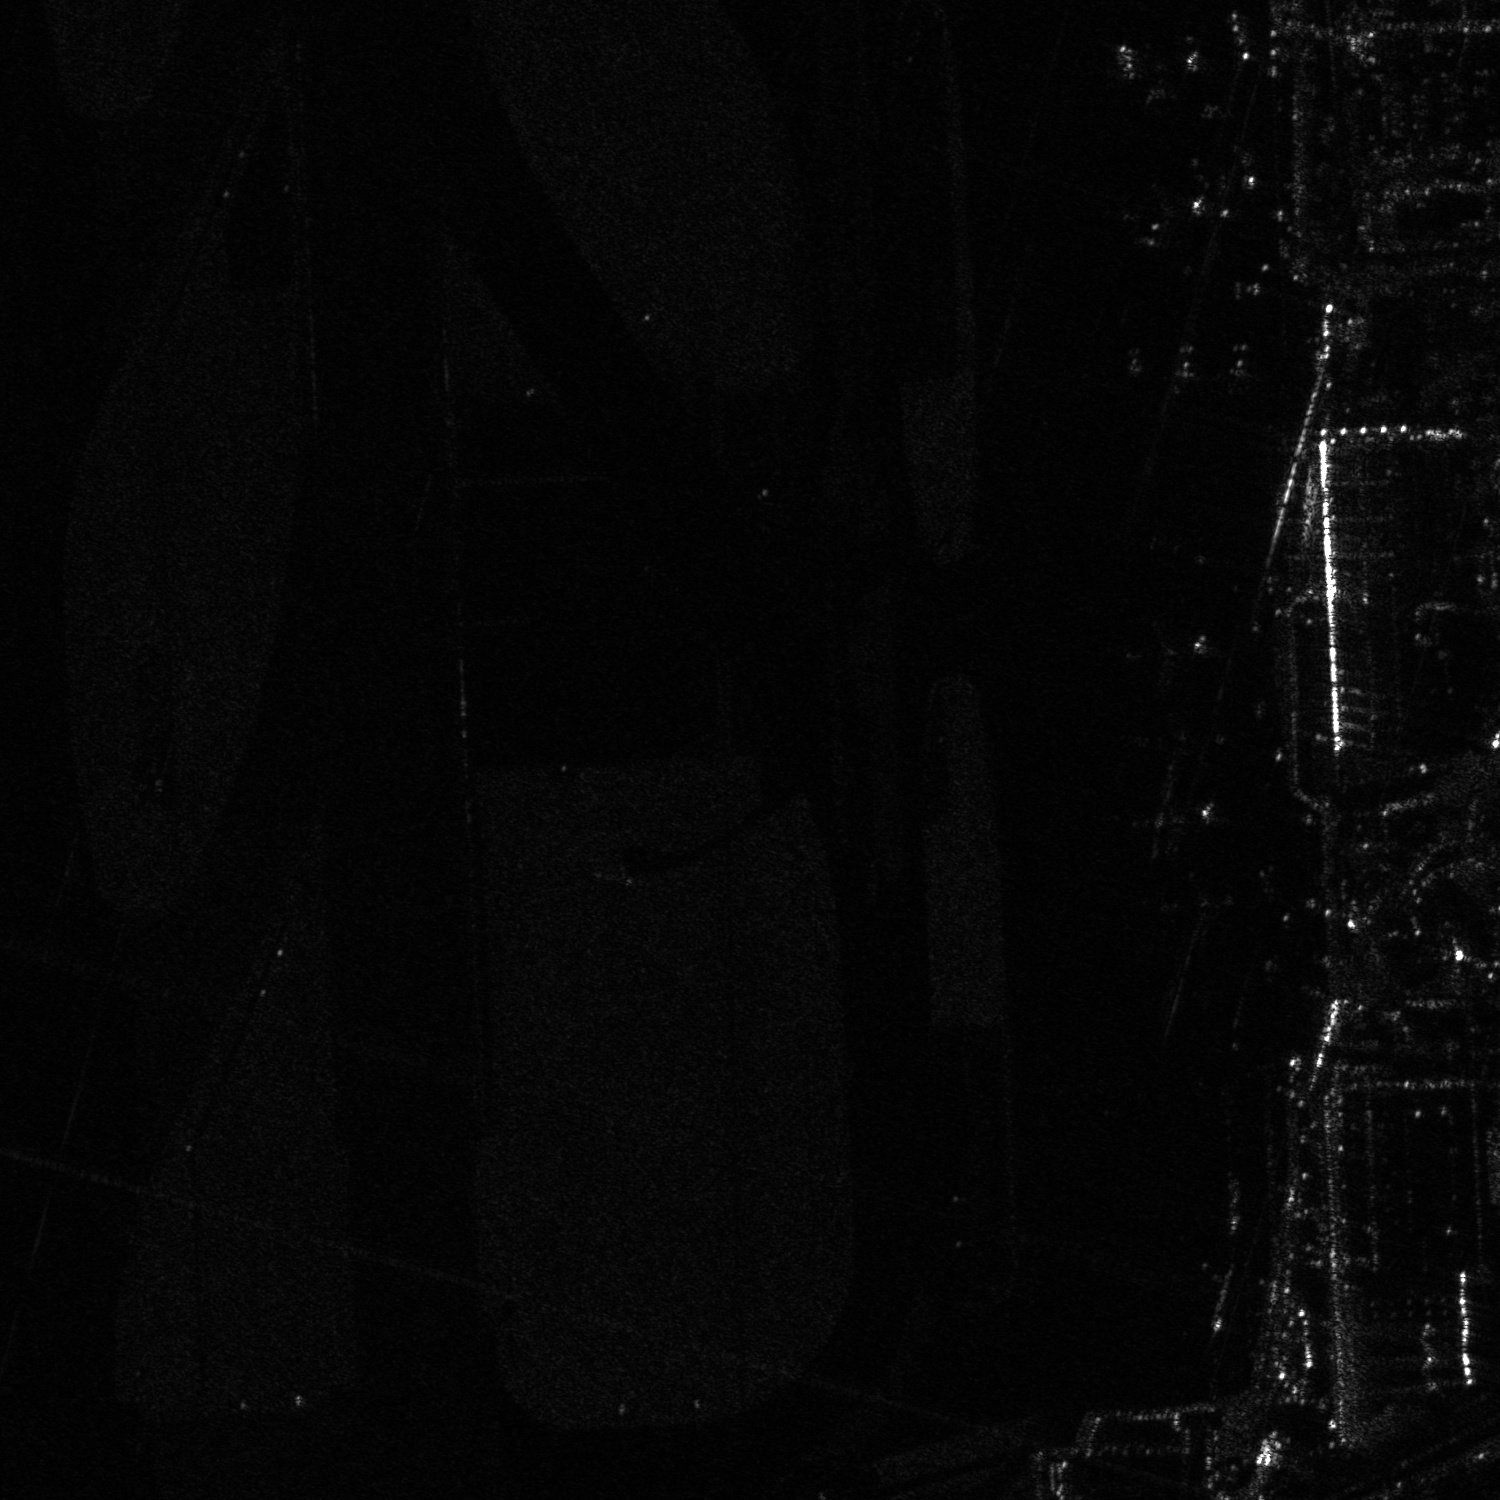A220: (1115, 768, 1225, 863), (1115, 621, 1214, 685)
ARJ21: (1163, 870, 1240, 944)
other: (1217, 343, 1261, 397), (1169, 346, 1205, 396)
